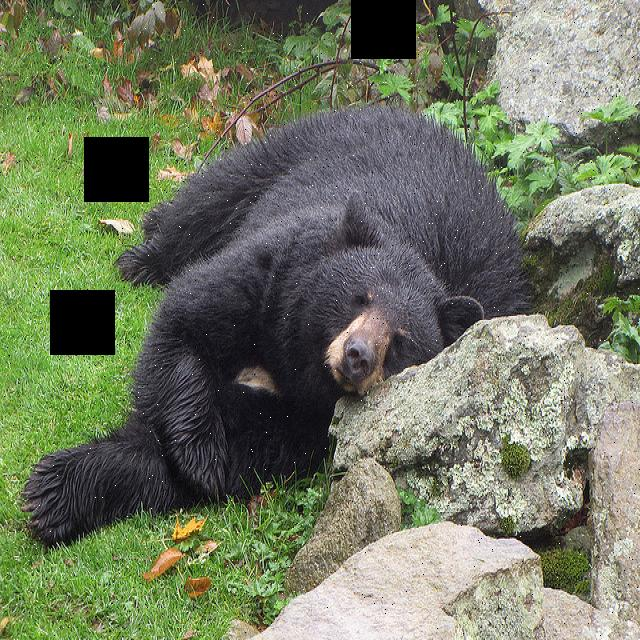Bear: (39, 85, 566, 540)
